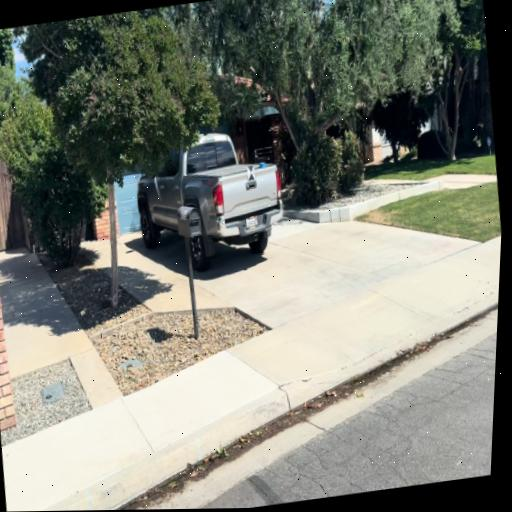target1: (246, 165, 256, 180)
